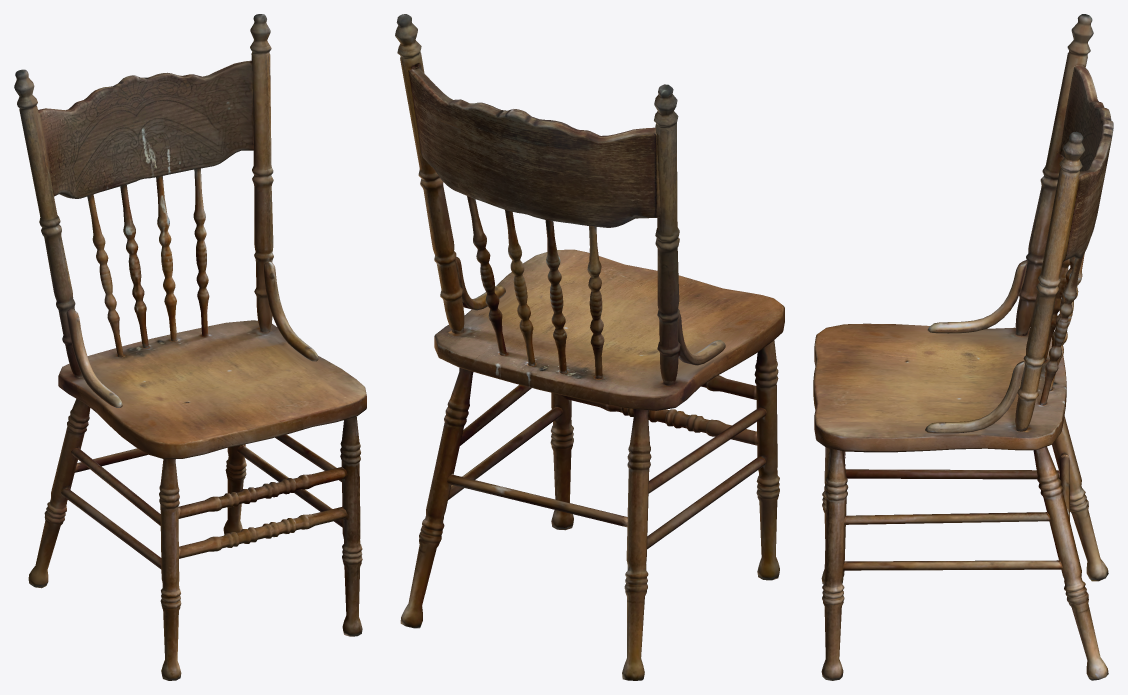
File: wooden_dining_chair.glb
The picture shows the model from 3 angles, left to right: view 1: azimuth 30°, elevation 25°; view 2: azimuth 150°, elevation 25°; view 3: azimuth 270°, elevation 25°; orthographic projection. The views are drawn at different scales.
Visible parts, largest first — view 1: Object_2; view 2: Object_2; view 3: Object_2.
Part boxes in pixels (bbox=[...]): Object_2: bbox=[14, 14, 366, 680]; Object_2: bbox=[395, 14, 784, 680]; Object_2: bbox=[813, 14, 1113, 680].
Size of the model in its own units: 0.4892 by 0.9841 by 0.4827.
1 material, 1 textured.
